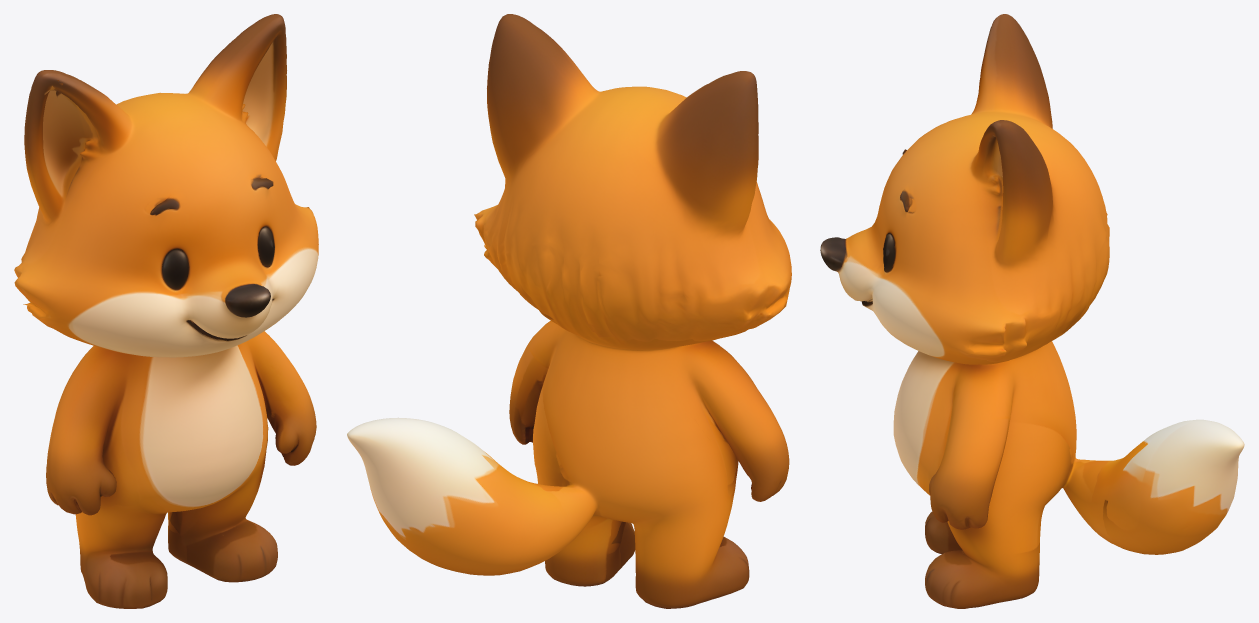
The model's file is metamask_fox.glb.
3 views of the same model, side by side, from view 1: azimuth 30°, elevation 25°; view 2: azimuth 150°, elevation 25°; view 3: azimuth 270°, elevation 25° (orthographic). The views are drawn at different scales.
Parts seen in each view (by area): view 1: model; view 2: model; view 3: model.
Boxes of the visible parts, bbox=[...] form: model: bbox=[14, 14, 318, 608]; model: bbox=[347, 14, 791, 608]; model: bbox=[820, 14, 1244, 608].
Bounding box in the file's own units: 1.13 × 1.9 × 1.46.
1 material, 1 textured.
